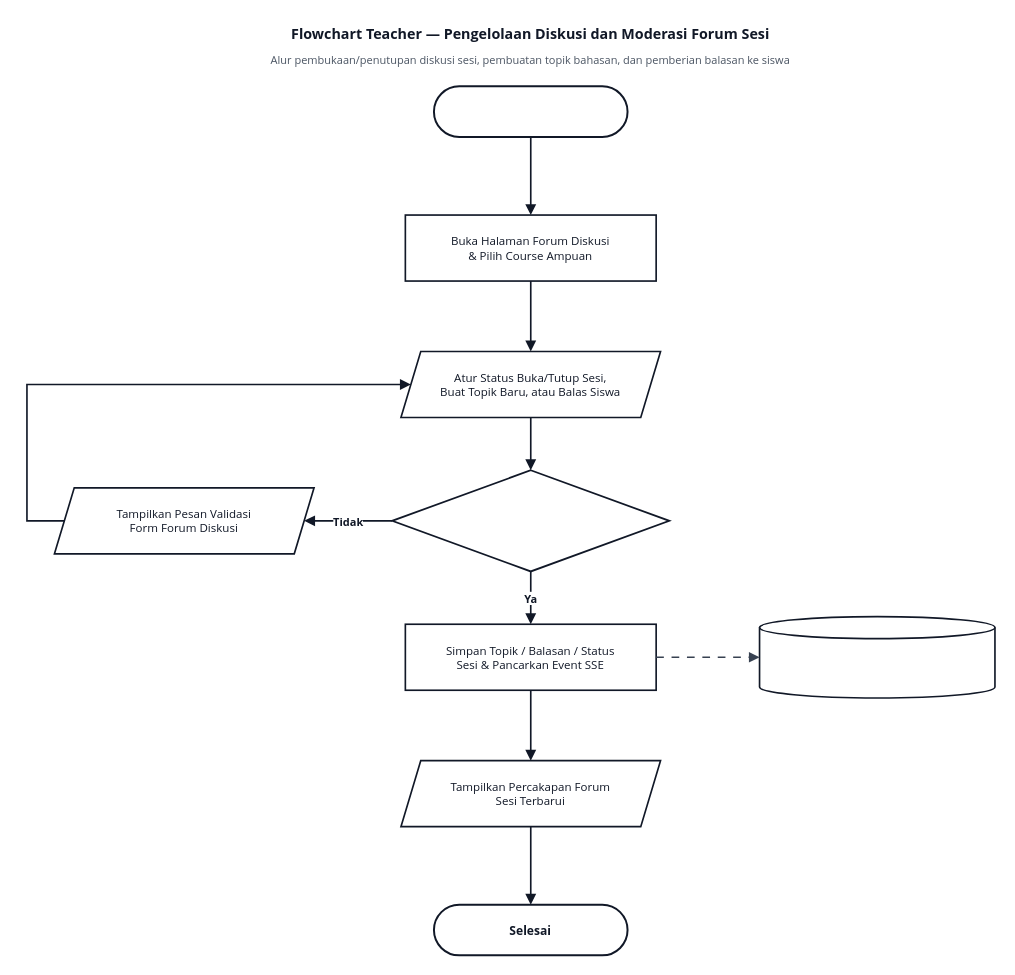
Some shapes in this 1015 by 975 pixel diagram are drawn without their labels. The centre of each missing label's shape, as x and y in pixels:
Isi Topik / Balasan & Lampiran Valid?: the point at 530,520
Mulai: the point at 530,111
SQL Server: forum_threads, forum_replies & forum_session_settings: the point at 876,656
